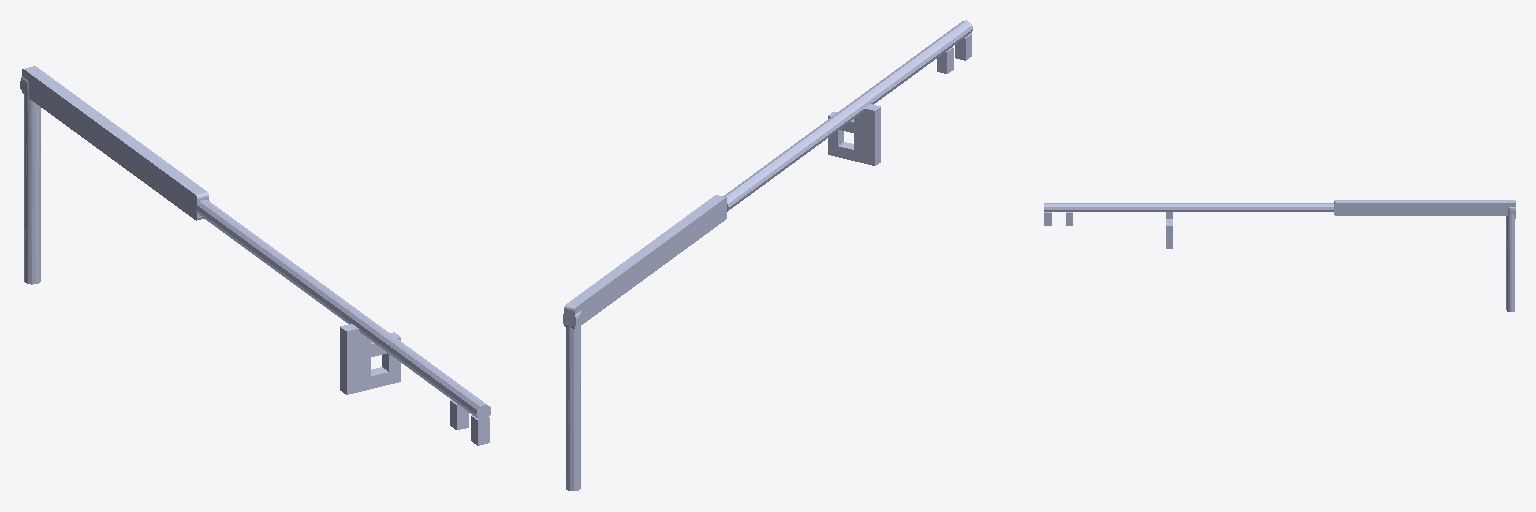
The robot description file, URDF, robot "hook":
<?xml version="1.0" encoding="utf-8"?>
<!-- This URDF was automatically created by SolidWorks to URDF Exporter! Originally created by Stephen Brawner (brawner@gmail.com) 
     Commit Version: 1.6.0-4-g7f85cfe  Build Version: 1.6.7995.38578
     For more information, please see http://wiki.ros.org/sw_urdf_exporter -->
<robot
  name="hook">
  <link
    name="base_link">
    <inertial>
      <origin
        xyz="-1.72079104039339E-08 8.0813026428499E-05 -0.162229110019625"
        rpy="0 0 0" />
      <mass
        value="0.15990908414068" />
      <inertia
        ixx="0.00141507226909998"
        ixy="5.87435570997381E-11"
        ixz="3.23196300716034E-10"
        iyy="0.00141500594064647"
        iyz="-1.90459556143419E-06"
        izz="1.26199142207597E-05" />
    </inertial>
    <visual>
      <origin
        xyz="0 0 0"
        rpy="0 0 0" />
      <geometry>
        <mesh
          filename="package://hook/meshes/base_link.STL" />
      </geometry>
      <material
        name="">
        <color
          rgba="0.792156862745098 0.819607843137255 0.933333333333333 1" />
      </material>
    </visual>
    <collision>
      <origin
        xyz="0 0 0"
        rpy="0 0 0" />
      <geometry>
        <mesh
          filename="package://hook/meshes/base_link.STL" />
      </geometry>
    </collision>
  </link>
  <link
    name="link1">
    <inertial>
      <origin
        xyz="-4.02455846426619E-16 7.28680788397123E-17 0.25"
        rpy="0 0 0" />
      <mass
        value="0.399570796326795" />
      <inertia
        ixx="0.00832006589353713"
        ixy="7.03490782467767E-21"
        ixz="2.77270941327775E-18"
        iyy="0.00835992678031014"
        iyz="-3.27854264644385E-18"
        izz="6.64989398614644E-05" />
    </inertial>
    <visual>
      <origin
        xyz="0 0 0"
        rpy="0 0 0" />
      <geometry>
        <mesh
          filename="package://hook/meshes/link1.STL" />
      </geometry>
      <material
        name="">
        <color
          rgba="0.792156862745098 0.819607843137255 0.933333333333333 1" />
      </material>
    </visual>
    <collision>
      <origin
        xyz="0 0 0"
        rpy="0 0 0" />
      <geometry>
        <mesh
          filename="package://hook/meshes/link1.STL" />
      </geometry>
    </collision>
  </link>
  <joint
    name="j1"
    type="fixed">
    <origin
      xyz="0 0.0125 -0.0125"
      rpy="1.5708 1.5708 0" />
    <parent
      link="base_link" />
    <child
      link="link1" />
    <axis
      xyz="0 0 0" />
  </joint>
  <link
    name="link2">
    <inertial>
      <origin
        xyz="-2.42611489842849E-16 -4.0766001685455E-16 0.4"
        rpy="0 0 0" />
      <mass
        value="0.392699081698724" />
      <inertia
        ixx="0.0209592908318108"
        ixy="1.36108587827704E-34"
        ixz="2.37260275840112E-18"
        iyy="0.0209592908318108"
        iyz="-1.1726708913308E-18"
        izz="3.06796157577128E-05" />
    </inertial>
    <visual>
      <origin
        xyz="0 0 0"
        rpy="0 0 0" />
      <geometry>
        <mesh
          filename="package://hook/meshes/link2.STL" />
      </geometry>
      <material
        name="">
        <color
          rgba="0.792156862745098 0.819607843137255 0.933333333333333 1" />
      </material>
    </visual>
    <collision>
      <origin
        xyz="0 0 0"
        rpy="0 0 0" />
      <geometry>
        <mesh
          filename="package://hook/meshes/link2.STL" />
      </geometry>
    </collision>
  </link>
  <joint
    name="j2"
    type="fixed">
    <origin
      xyz="0 0 0.5"
      rpy="0 0 -1.5708" />
    <parent
      link="link1" />
    <child
      link="link2" />
    <axis
      xyz="0 0 0" />
  </joint>
  <link
    name="link3">
    <inertial>
      <origin
        xyz="-0.0300000000000004 1.11665787727588E-10 -0.00749378664083595"
        rpy="0 0 0" />
      <mass
        value="0.0800000000000001" />
      <inertia
        ixx="1.33333333333334E-05"
        ixy="-1.12937726300573E-21"
        ixz="-1.68290322930462E-29"
        iyy="7.73333333333334E-05"
        iyz="1.19209289661803E-13"
        izz="6.93333333333334E-05" />
    </inertial>
    <visual>
      <origin
        xyz="0 0 0"
        rpy="0 0 0" />
      <geometry>
        <mesh
          filename="package://hook/meshes/link3.STL" />
      </geometry>
      <material
        name="">
        <color
          rgba="0.792156862745098 0.819607843137255 0.933333333333333 1" />
      </material>
    </visual>
    <collision>
      <origin
        xyz="0 0 0"
        rpy="0 0 0" />
      <geometry>
        <mesh
          filename="package://hook/meshes/link3.STL" />
      </geometry>
    </collision>
  </link>
  <joint
    name="j3"
    type="fixed">
    <origin
      xyz="0.02 0.08 0.455"
      rpy="1.5708 0 1.5708" />
    <parent
      link="link2" />
    <child
      link="link3" />
    <axis
      xyz="0 0 0" />
  </joint>
  <link
    name="link31">
    <inertial>
      <origin
        xyz="0.516137995028202 0.0800000000000005 0.015"
        rpy="0 0 0" />
      <mass
        value="0.012" />
      <inertia
        ixx="1.3E-06"
        ixy="-7.14331118851129E-23"
        ixz="-2.22257613929119E-38"
        iyy="1.3E-06"
        iyz="7.05860789378583E-23"
        izz="8.00000000000002E-07" />
    </inertial>
    <visual>
      <origin
        xyz="0 0 0"
        rpy="0 0 0" />
      <geometry>
        <mesh
          filename="package://hook/meshes/link31.STL" />
      </geometry>
      <material
        name="">
        <color
          rgba="0.792156862745098 0.819607843137255 0.933333333333333 1" />
      </material>
    </visual>
    <collision>
      <origin
        xyz="0 0 0"
        rpy="0 0 0" />
      <geometry>
        <mesh
          filename="package://hook/meshes/link31.STL" />
      </geometry>
    </collision>
  </link>
  <joint
    name="j31"
    type="fixed">
    <origin
      xyz="0.04 -0.51614 -0.057494"
      rpy="0 0 1.5708" />
    <parent
      link="link3" />
    <child
      link="link31" />
    <axis
      xyz="0 0 0" />
  </joint>
  <link
    name="link33">
    <inertial>
      <origin
        xyz="0.516137995028202 0 -0.0450000000000005"
        rpy="0 0 0" />
      <mass
        value="0.028" />
      <inertia
        ixx="1.23666666666667E-05"
        ixy="-3.5636370156883E-23"
        ixz="1.41172157875717E-22"
        iyy="1.23666666666667E-05"
        iyz="-3.79244884917325E-22"
        izz="1.86666666666667E-06" />
    </inertial>
    <visual>
      <origin
        xyz="0 0 0"
        rpy="0 0 0" />
      <geometry>
        <mesh
          filename="package://hook/meshes/link33.STL" />
      </geometry>
      <material
        name="">
        <color
          rgba="0.792156862745098 0.819607843137255 0.933333333333333 1" />
      </material>
    </visual>
    <collision>
      <origin
        xyz="0 0 0"
        rpy="0 0 0" />
      <geometry>
        <mesh
          filename="package://hook/meshes/link33.STL" />
      </geometry>
    </collision>
  </link>
  <joint
    name="j33"
    type="fixed">
    <origin
      xyz="0 0.01 -0.01"
      rpy="1.5708 0 0" />
    <parent
      link="link31" />
    <child
      link="link33" />
    <axis
      xyz="0 0 0" />
  </joint>
  <link
    name="link32">
    <inertial>
      <origin
        xyz="-0.0800000000000005 0.516137995028202 -0.0149999999999999"
        rpy="0 0 0" />
      <mass
        value="0.012" />
      <inertia
        ixx="1.3E-06"
        ixy="-4.71978051982727E-23"
        ixz="-4.33680868994202E-23"
        iyy="1.3E-06"
        iyz="4.33680868994201E-23"
        izz="8.00000000000002E-07" />
    </inertial>
    <visual>
      <origin
        xyz="0 0 0"
        rpy="0 0 0" />
      <geometry>
        <mesh
          filename="package://hook/meshes/link32.STL" />
      </geometry>
      <material
        name="">
        <color
          rgba="0.792156862745098 0.819607843137255 0.933333333333333 1" />
      </material>
    </visual>
    <collision>
      <origin
        xyz="0 0 0"
        rpy="0 0 0" />
      <geometry>
        <mesh
          filename="package://hook/meshes/link32.STL" />
      </geometry>
    </collision>
  </link>
  <joint
    name="j32"
    type="fixed">
    <origin
      xyz="0.09 -0.51614 -0.027494"
      rpy="0 0 0" />
    <parent
      link="link3" />
    <child
      link="link32" />
    <axis
      xyz="0 0 0" />
  </joint>
  <link
    name="link4">
    <inertial>
      <origin
        xyz="4.44089209850063E-16 1.61681330754294E-16 0.0199999999999997"
        rpy="0 0 0" />
      <mass
        value="0.016" />
      <inertia
        ixx="2.66666666666667E-06"
        ixy="-2.5903866725241E-22"
        ixz="-4.80600621510323E-22"
        iyy="2.66666666666667E-06"
        iyz="1.28166972116391E-22"
        izz="1.06666666666667E-06" />
    </inertial>
    <visual>
      <origin
        xyz="0 0 0"
        rpy="0 0 0" />
      <geometry>
        <mesh
          filename="package://hook/meshes/link4.STL" />
      </geometry>
      <material
        name="">
        <color
          rgba="0.792156862745098 0.819607843137255 0.933333333333333 1" />
      </material>
    </visual>
    <collision>
      <origin
        xyz="0 0 0"
        rpy="0 0 0" />
      <geometry>
        <mesh
          filename="package://hook/meshes/link4.STL" />
      </geometry>
    </collision>
  </link>
  <joint
    name="j4"
    type="fixed">
    <origin
      xyz="0 0.05 0.73"
      rpy="1.5708 -1.5708 0" />
    <parent
      link="link2" />
    <child
      link="link4" />
    <axis
      xyz="0 0 0" />
  </joint>
  <link
    name="link5">
    <inertial>
      <origin
        xyz="-2.22044604925031E-16 2.51367622874714E-16 0.0200000000000004"
        rpy="0 0 0" />
      <mass
        value="0.016" />
      <inertia
        ixx="2.66666666666667E-06"
        ixy="-6.49822896591864E-23"
        ixz="-1.6423187318195E-22"
        iyy="2.66666666666667E-06"
        iyz="-5.568498497958E-23"
        izz="1.06666666666667E-06" />
    </inertial>
    <visual>
      <origin
        xyz="0 0 0"
        rpy="0 0 0" />
      <geometry>
        <mesh
          filename="package://hook/meshes/link5.STL" />
      </geometry>
      <material
        name="">
        <color
          rgba="0.792156862745098 0.819607843137255 0.933333333333333 1" />
      </material>
    </visual>
    <collision>
      <origin
        xyz="0 0 0"
        rpy="0 0 0" />
      <geometry>
        <mesh
          filename="package://hook/meshes/link5.STL" />
      </geometry>
    </collision>
  </link>
  <joint
    name="j5"
    type="fixed">
    <origin
      xyz="0 0.05 0.79"
      rpy="1.5708 -1.5708 0" />
    <parent
      link="link2" />
    <child
      link="link5" />
    <axis
      xyz="0 0 0" />
  </joint>
</robot>

--- Render facts (derived) ---
3 views of the same robot in one strip: view 1: azimuth 30°, elevation 25°; view 2: azimuth 150°, elevation 25°; view 3: azimuth 270°, elevation 25° (orthographic).
Robot: hook — 9 links, 8 joints (8 fixed); root link base_link; default pose: all joints at 0.
Links seen in each view (by area): view 1: link1, link2, base_link, link3; view 2: link1, link2, base_link, link3; view 3: link1, link2, base_link.
Boxes of the visible links, bbox=[...] form: link1: bbox=[22, 66, 208, 220]; link2: bbox=[196, 199, 490, 420]; base_link: bbox=[20, 76, 40, 284]; link3: bbox=[340, 324, 370, 394]; link1: bbox=[564, 195, 726, 329]; link2: bbox=[723, 20, 972, 211]; base_link: bbox=[563, 311, 580, 490]; link3: bbox=[854, 104, 880, 165]; link1: bbox=[1334, 200, 1515, 215]; link2: bbox=[1044, 203, 1333, 211]; base_link: bbox=[1506, 207, 1515, 311].
Bounding box of the posed robot: 0.09 × 1.3 × 0.3325 m (x, y, z).
Meshes: 9 distinct files referenced, 9 mesh visuals loaded (9 binary STL).
